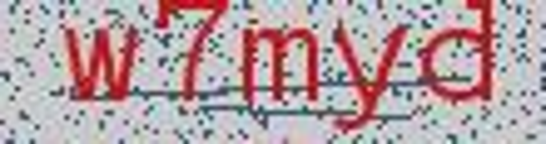7: (153, 1, 233, 110)
d: (417, 2, 510, 113)
m: (237, 16, 322, 109)
w: (50, 18, 146, 111)
y: (326, 14, 411, 138)
